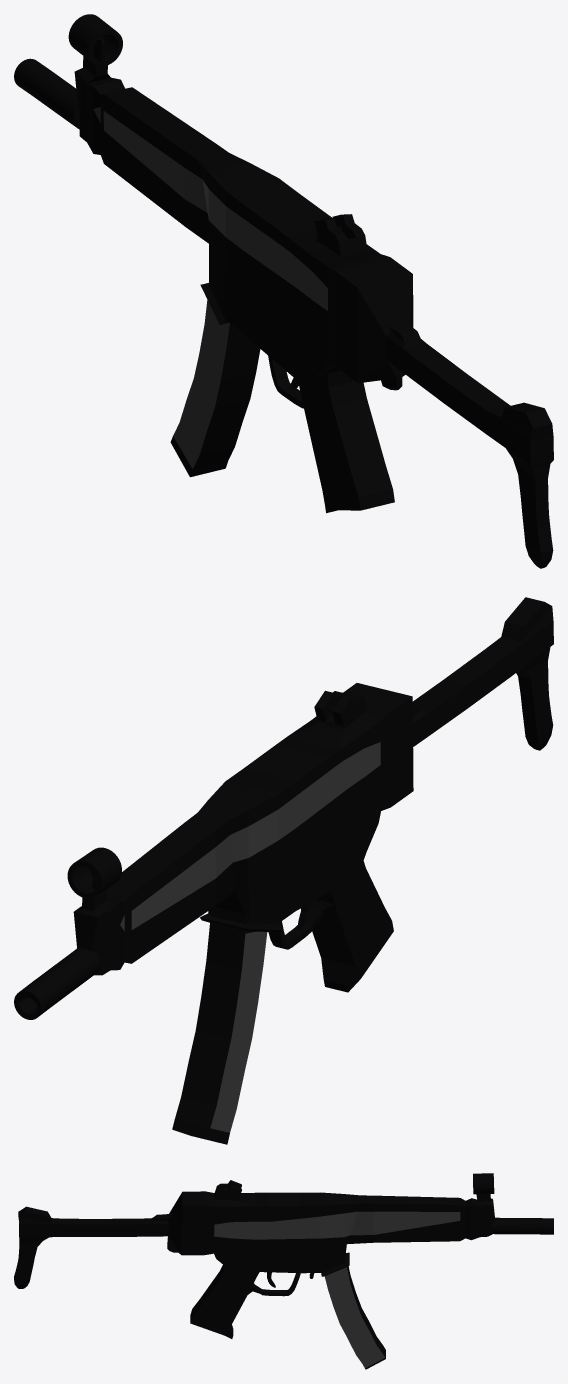
3 renders of one model, top to bottom at view 1: azimuth 30°, elevation 25°; view 2: azimuth 150°, elevation 25°; view 3: azimuth 270°, elevation 25°, orthographic. The views are drawn at different scales.
Parts seen in each view (by area): view 1: Cube, Cube.001; view 2: Cube, Cube.001; view 3: Cube, Cube.001.
Part boxes in pixels (left/top/right/bottom): Cube: left=14, top=14, right=553, bottom=568; Cube.001: left=170, top=300, right=260, bottom=477; Cube: left=14, top=597, right=553, bottom=1019; Cube.001: left=172, top=906, right=267, bottom=1144; Cube: left=14, top=1173, right=553, bottom=1338; Cube.001: left=324, top=1253, right=385, bottom=1369.
Size of the model in its own units: 0.345 by 1.92 by 4.9.
1 material, 1 textured.
